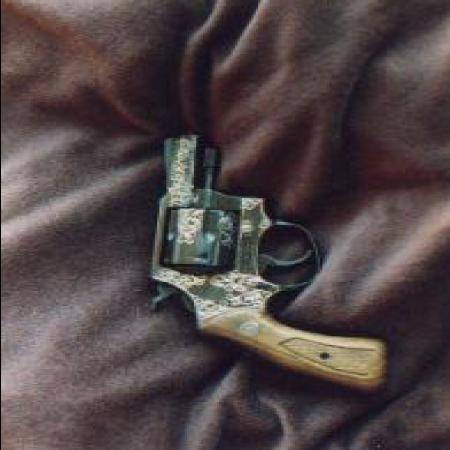Pistol: (144, 131, 384, 394)
